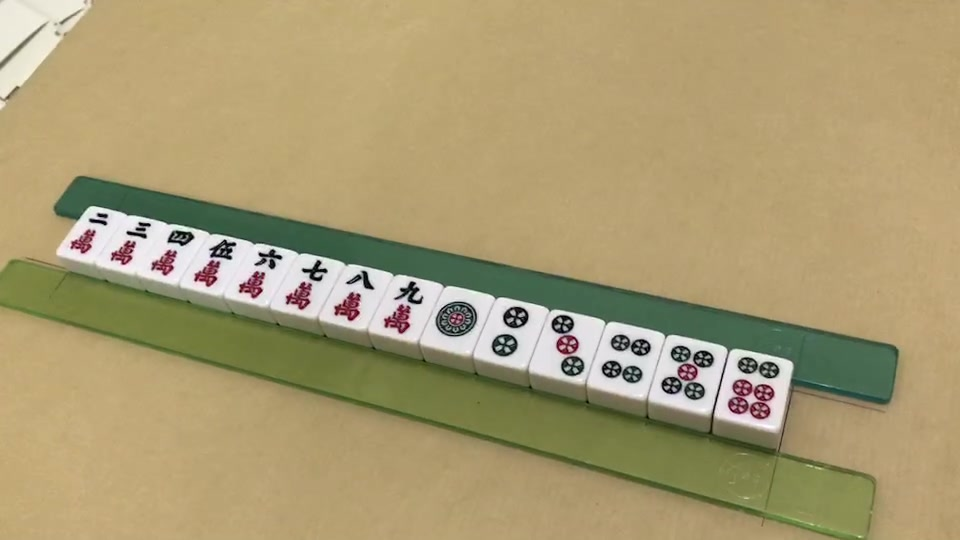1p: (436, 301, 479, 339)
2m: (73, 212, 108, 254)
2p: (492, 303, 527, 357)
3m: (110, 217, 151, 267)
3p: (552, 315, 590, 377)
4m: (151, 231, 195, 276)
4p: (604, 336, 650, 384)
5m: (196, 241, 237, 289)
5p: (663, 346, 716, 402)
6m: (240, 248, 285, 304)
6p: (726, 355, 774, 419)
7m: (284, 260, 329, 314)
8m: (333, 272, 374, 325)
9m: (381, 279, 425, 334)
